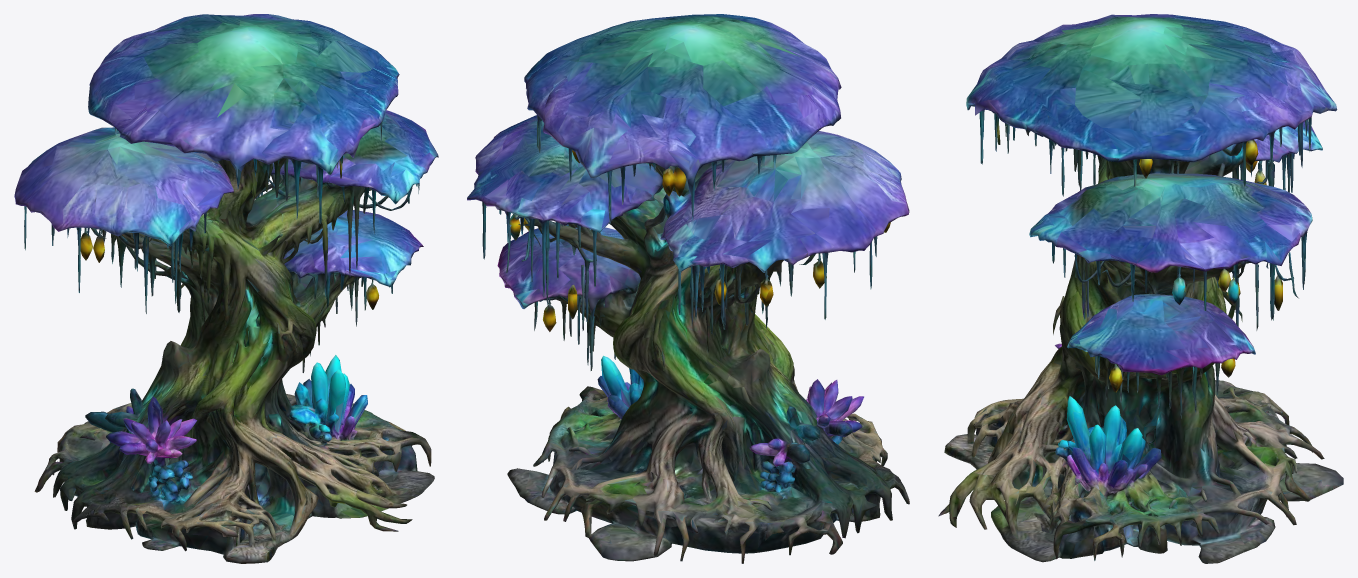
File: Luminous_Crystalline_.glb
3 views of the same model, side by side, from view 1: azimuth 30°, elevation 25°; view 2: azimuth 150°, elevation 25°; view 3: azimuth 270°, elevation 25° (orthographic). The views are drawn at different scales.
Visible parts, largest first — view 1: Luminous_Crystalline_; view 2: Luminous_Crystalline_; view 3: Luminous_Crystalline_.
Boxes of the visible parts, x1=… form: Luminous_Crystalline_: x1=14, y1=14, x2=438, y2=563; Luminous_Crystalline_: x1=467, y1=14, x2=909, y2=563; Luminous_Crystalline_: x1=938, y1=14, x2=1343, y2=563.
Size of the model in its own units: 1.74 by 1.9 by 1.51.
Materials: 1 (1 with a texture image).
